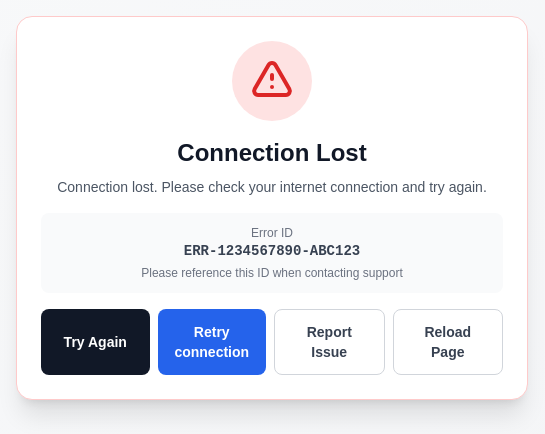
it: ErrorBoundary › Retry Logic › should show loading state during retry
Click the button "Retry connection" at (212, 342), box [158, 309, 266, 375]
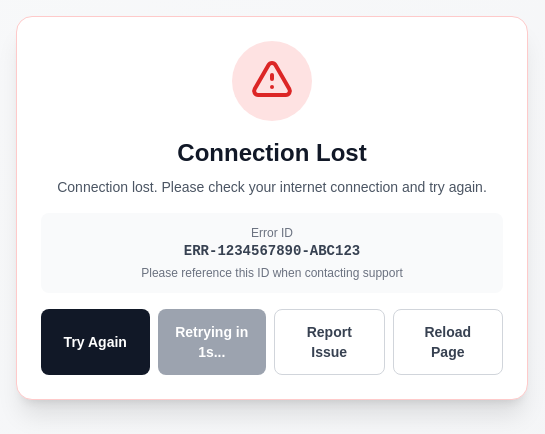
Check: the button "Retrying in 1s..." is shown, box [158, 309, 266, 375]
